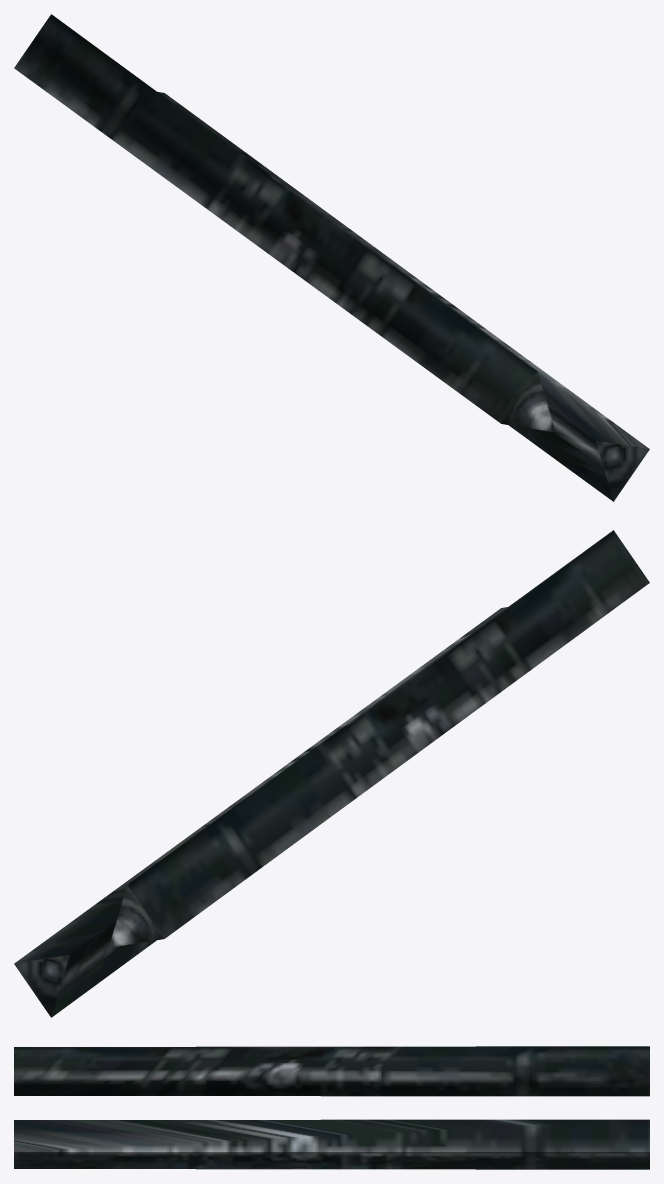
Rendered from wp_pistol_srcombat_scope_l2.fbx.
3 views of the same model, one above another, from view 1: azimuth 30°, elevation 25°; view 2: azimuth 150°, elevation 25°; view 3: azimuth 270°, elevation 25° (orthographic). The views are drawn at different scales.
Parts seen in each view (by area): view 1: mesh_node; view 2: mesh_node; view 3: mesh_node.
Boxes of the visible parts, x1=… form: mesh_node: x1=14, y1=14, x2=649, y2=501; mesh_node: x1=14, y1=530, x2=649, y2=1017; mesh_node: x1=14, y1=1046, x2=649, y2=1169.
Size of the model in its own units: 0.0479 by 0.0461 by 0.2678.
1 material, 1 textured.
